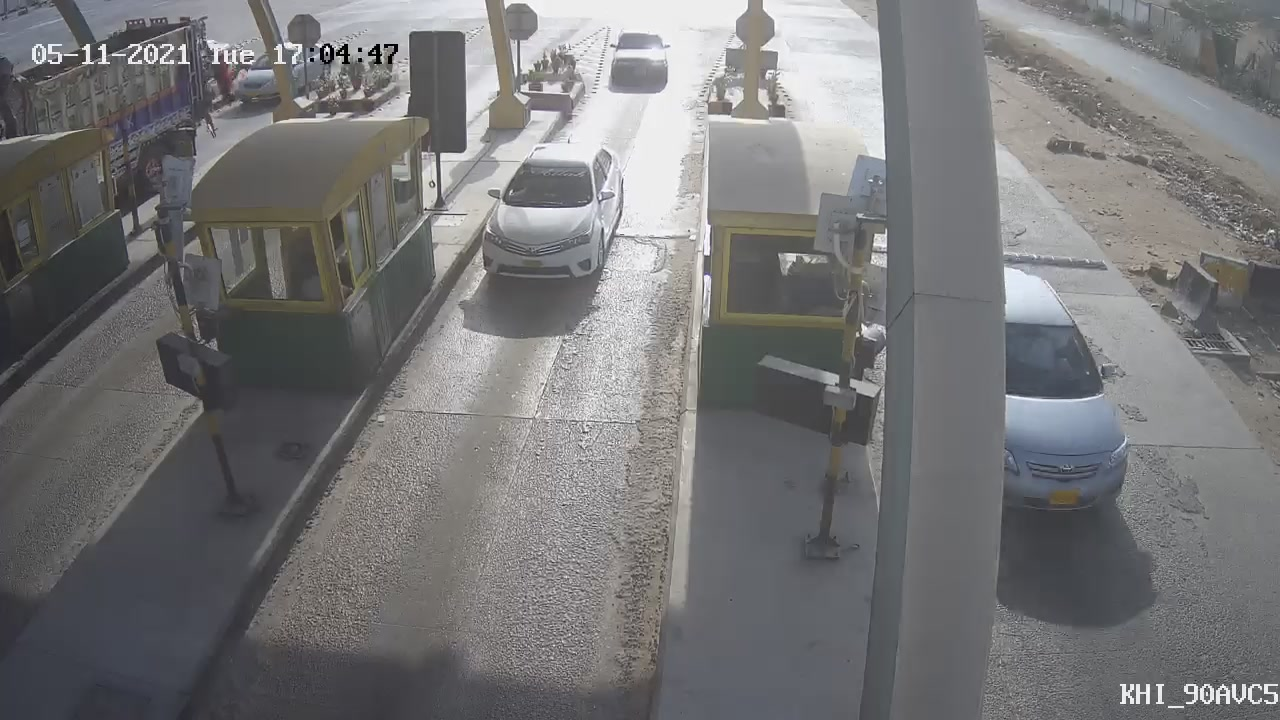F1: (461, 128, 641, 304)
